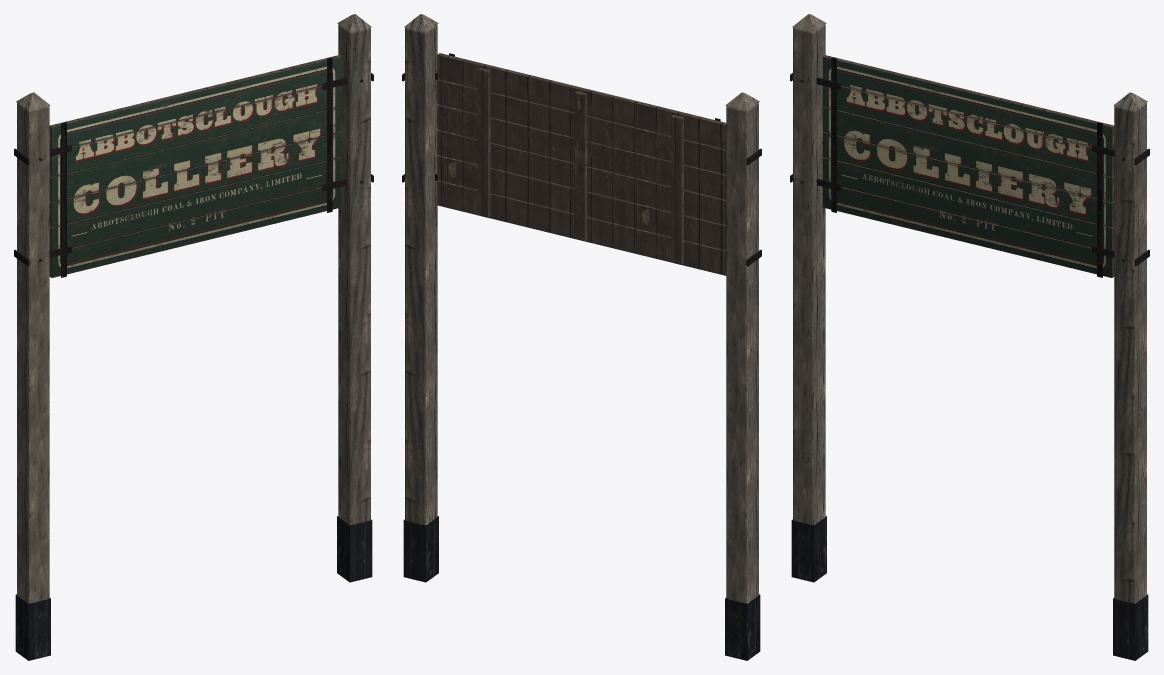
File: colliery-name-board.glb
3 views of the same model, side by side, from view 1: azimuth 30°, elevation 25°; view 2: azimuth 150°, elevation 25°; view 3: azimuth 330°, elevation 25° (orthographic).
Visible parts, largest first — view 1: name-board, posts; view 2: name-board, posts; view 3: name-board, posts.
Part boxes in pixels (bbox=[...]): name-board: bbox=[49, 55, 341, 277]; posts: bbox=[14, 14, 373, 660]; name-board: bbox=[437, 53, 726, 275]; posts: bbox=[402, 14, 761, 660]; name-board: bbox=[822, 55, 1114, 277]; posts: bbox=[790, 14, 1149, 660].
Size of the model in its own units: 2.86 by 4.43 by 0.2084.
Materials: 5 (5 with a texture image).
